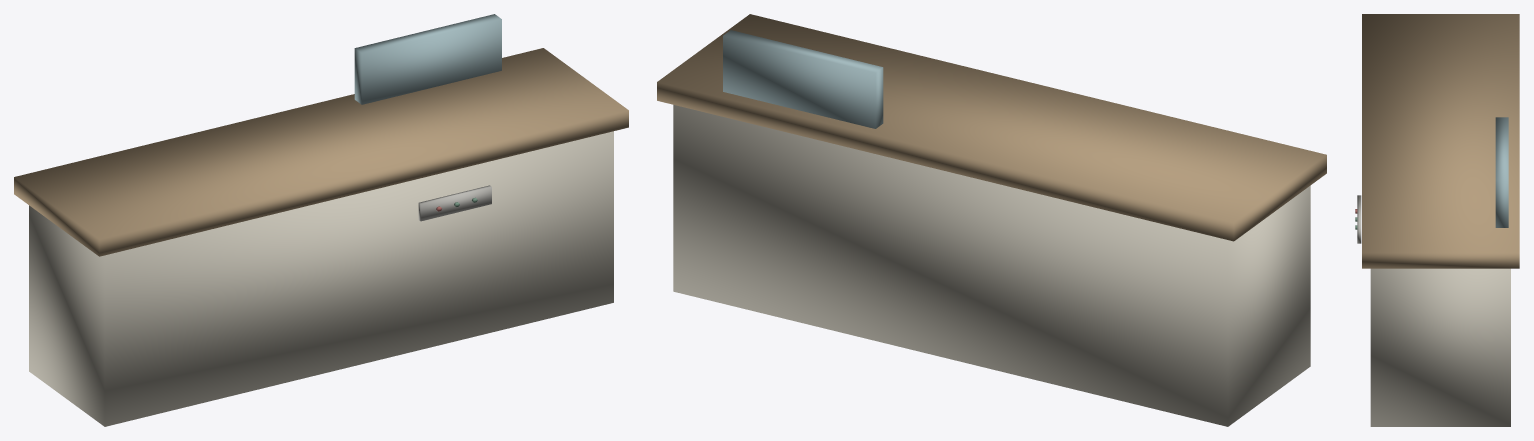
Rendered from service_counter__wide.glb.
3 views of the same model, side by side, from view 1: azimuth 30°, elevation 25°; view 2: azimuth 150°, elevation 25°; view 3: azimuth 270°, elevation 25° (orthographic). The views are drawn at different scales.
Visible parts, largest first — view 1: world; view 2: world; view 3: world.
Boxes of the visible parts, x1,y1,x2,y2 form: world: [14, 14, 628, 426]; world: [657, 14, 1326, 426]; world: [1355, 14, 1519, 426].
Size of the model in its own units: 2.58 by 1.14 by 0.751.
